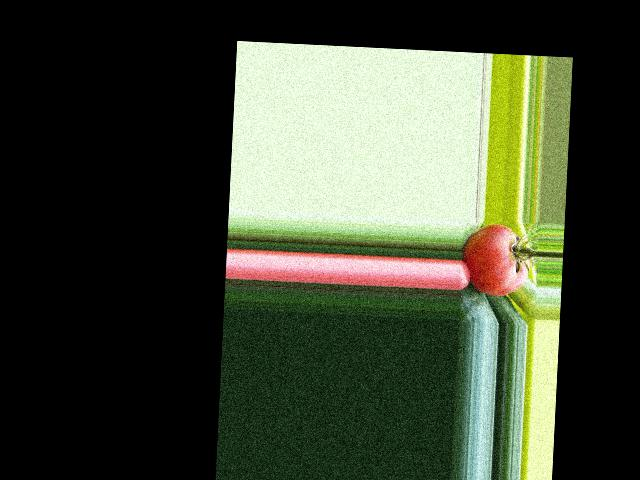tomato: (460, 222, 530, 297)
